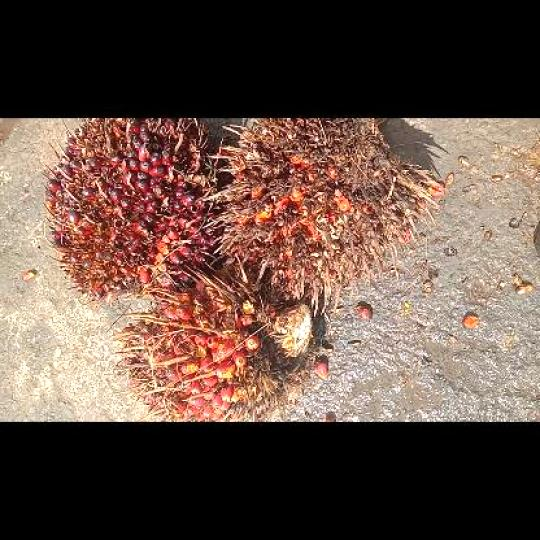masak: (42, 117, 218, 300), (112, 265, 313, 420)
terlalu masak: (202, 118, 439, 314)
